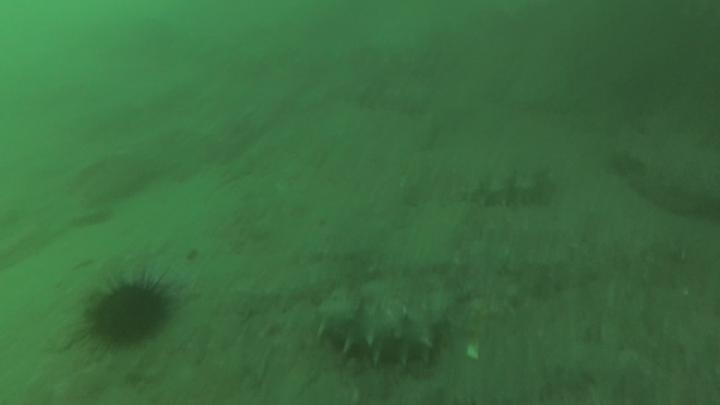echinus: (82, 271, 175, 352)
holothurian: (312, 293, 445, 370), (461, 167, 557, 212)
